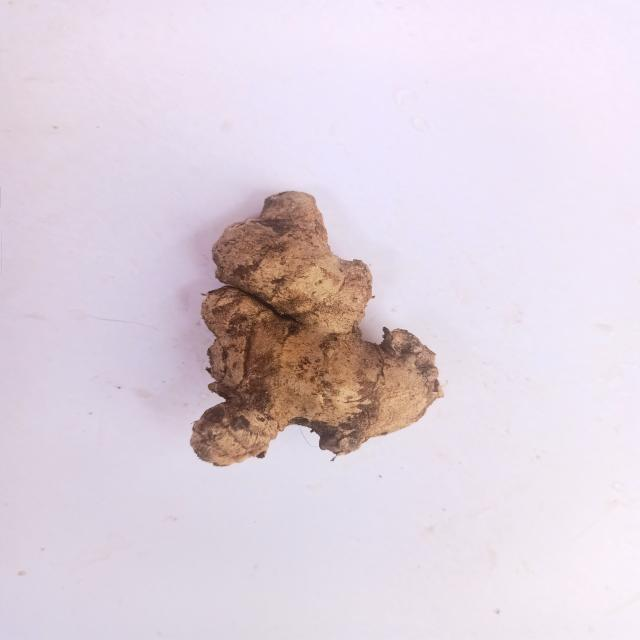Ginger: (178, 181, 452, 479)
